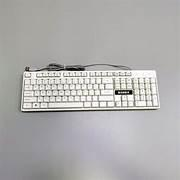keyboard: (20, 69, 160, 111)
